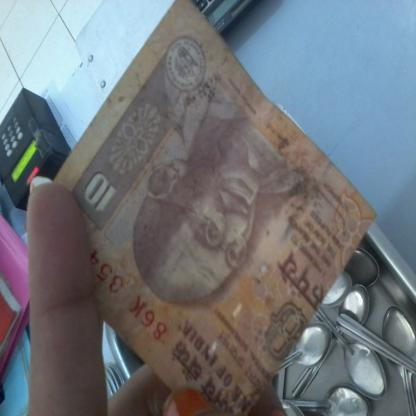Old10Front: (52, 0, 379, 416)
